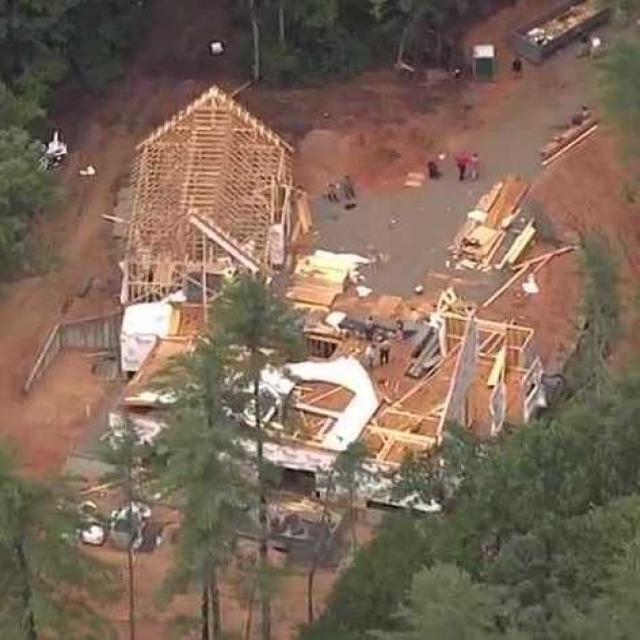collapsed_building: (225, 268, 532, 500)
